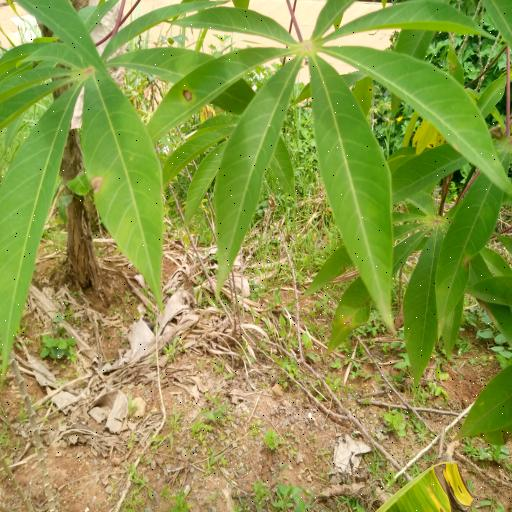Cassava_Brown_Leaf_Spot: (167, 2, 510, 334)
